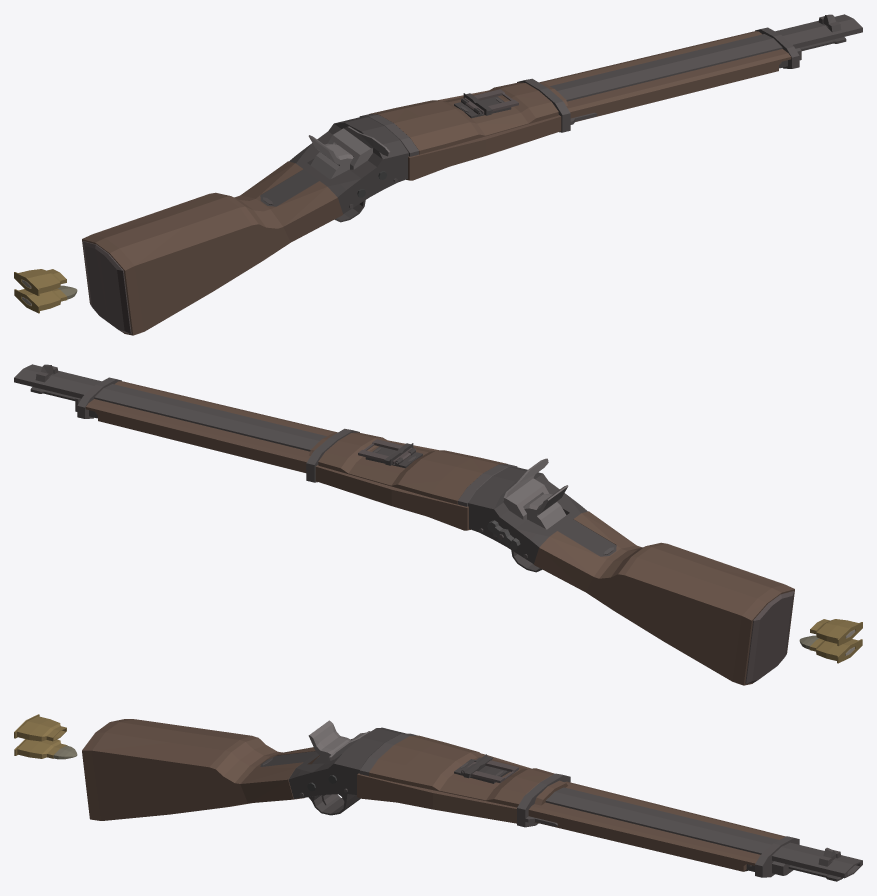
File: rolling_block_static.glb
3 renders of one model, top to bottom at view 1: azimuth 30°, elevation 25°; view 2: azimuth 150°, elevation 25°; view 3: azimuth 330°, elevation 25°, orthographic.
Parts seen in each view (by area): view 1: Cylinder.000_9, Cylinder.000_5, Cylinder.000_8, Cylinder.000_0, Cylinder.000_1, Cylinder.000_4; view 2: Cylinder.000_9, Cylinder.000_5, Cylinder.000_8, Cylinder.000_0, Cylinder.000_1, Cylinder.000_4; view 3: Cylinder.000_9, Cylinder.000_5, Cylinder.000_8, Cylinder.000_4, Cylinder.000_1, Cylinder.000_0.
Part boxes in pixels (bbox=[...]): Cylinder.000_9: bbox=[82, 31, 791, 335]; Cylinder.000_5: bbox=[263, 14, 862, 208]; Cylinder.000_8: bbox=[260, 37, 846, 222]; Cylinder.000_0: bbox=[82, 89, 518, 333]; Cylinder.000_1: bbox=[308, 126, 390, 179]; Cylinder.000_4: bbox=[14, 269, 67, 313]; Cylinder.000_9: bbox=[85, 381, 794, 685]; Cylinder.000_5: bbox=[14, 364, 613, 558]; Cylinder.000_8: bbox=[30, 387, 616, 572]; Cylinder.000_0: bbox=[358, 439, 794, 683]; Cylinder.000_1: bbox=[504, 458, 568, 529]; Cylinder.000_4: bbox=[809, 619, 862, 663]; Cylinder.000_9: bbox=[82, 719, 785, 871]; Cylinder.000_5: bbox=[263, 733, 862, 878]; Cylinder.000_8: bbox=[260, 727, 842, 881]; Cylinder.000_4: bbox=[14, 714, 67, 758]; Cylinder.000_1: bbox=[308, 720, 370, 764]; Cylinder.000_0: bbox=[467, 760, 518, 783].
Size of the model in its own units: 5.44 by 0.8509 by 0.6709.
